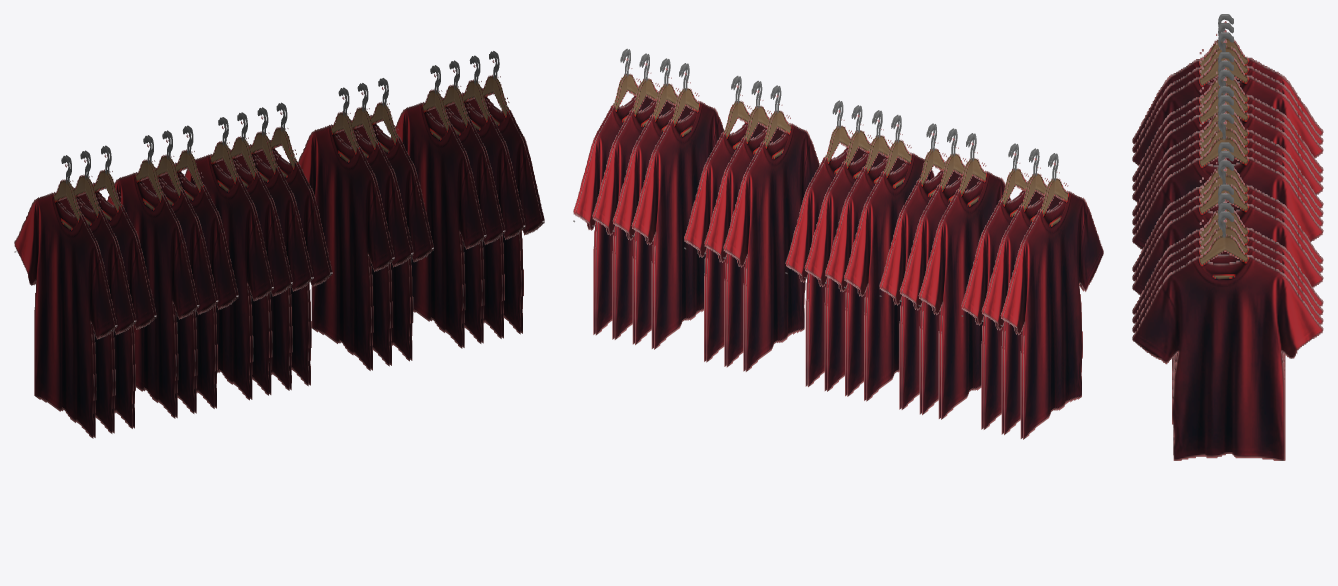
Rendered from Clothes.fbx.
3 renders of one model, left to right at view 1: azimuth 30°, elevation 25°; view 2: azimuth 150°, elevation 25°; view 3: azimuth 270°, elevation 25°, orthographic. The views are drawn at different scales.
Visible parts, largest first — view 1: HangedCloth__16_, HangedCloth__10_, HangedCloth__7_, HangedCloth__13_, HangedCloth__3_, HangedCloth__8_, HangedCloth__1_, HangedCloth__11_, HangedCloth__5_, HangedCloth__14_, HangedCloth__2_, HangedCloth__15_ (+5 smaller); view 2: HangedCloth__16_, HangedCloth__10_, HangedCloth__7_, HangedCloth__13_, HangedCloth__3_, HangedCloth__8_, HangedCloth__1_, HangedCloth__5_, HangedCloth__11_, HangedCloth__14_, HangedCloth__12_, HangedCloth__6_ (+5 smaller); view 3: HangedCloth__4_, HangedCloth, HangedCloth__8_, HangedCloth__14_, HangedCloth__11_, HangedCloth__5_, HangedCloth__9_, HangedCloth__6_, HangedCloth__15_, HangedCloth__1_, HangedCloth__12_, HangedCloth__2_ (+5 smaller).
Part boxes in pixels (x1=…): HangedCloth__16_: x1=14, y1=155, x2=117, y2=438; HangedCloth__10_: x1=298, y1=87, x2=394, y2=370; HangedCloth__7_: x1=390, y1=65, x2=486, y2=348; HangedCloth__13_: x1=107, y1=135, x2=199, y2=418; HangedCloth__3_: x1=184, y1=117, x2=273, y2=400; HangedCloth__8_: x1=356, y1=78, x2=433, y2=361; HangedCloth__1_: x1=235, y1=107, x2=313, y2=390; HangedCloth__11_: x1=161, y1=125, x2=238, y2=408; HangedCloth__5_: x1=448, y1=55, x2=525, y2=338; HangedCloth__14_: x1=79, y1=145, x2=156, y2=428; HangedCloth__2_: x1=216, y1=112, x2=292, y2=395; HangedCloth__15_: x1=60, y1=150, x2=136, y2=433; HangedCloth__16_: x1=1000, y1=153, x2=1103, y2=439; HangedCloth__10_: x1=723, y1=85, x2=819, y2=371; HangedCloth__7_: x1=631, y1=63, x2=724, y2=349; HangedCloth__13_: x1=918, y1=133, x2=1011, y2=419; HangedCloth__3_: x1=844, y1=114, x2=934, y2=401; HangedCloth__8_: x1=684, y1=75, x2=765, y2=362; HangedCloth__1_: x1=804, y1=105, x2=885, y2=391; HangedCloth__5_: x1=592, y1=53, x2=673, y2=339; HangedCloth__11_: x1=879, y1=123, x2=960, y2=409; HangedCloth__14_: x1=961, y1=143, x2=1042, y2=429; HangedCloth__12_: x1=899, y1=128, x2=979, y2=415; HangedCloth__6_: x1=612, y1=58, x2=692, y2=345; HangedCloth__4_: x1=1132, y1=211, x2=1323, y2=460; HangedCloth: x1=1132, y1=113, x2=1323, y2=249; HangedCloth__8_: x1=1132, y1=160, x2=1323, y2=371; HangedCloth__14_: x1=1132, y1=32, x2=1323, y2=166; HangedCloth__11_: x1=1132, y1=70, x2=1323, y2=202; HangedCloth__5_: x1=1132, y1=202, x2=1323, y2=444; HangedCloth__9_: x1=1132, y1=151, x2=1323, y2=281; HangedCloth__6_: x1=1132, y1=193, x2=1323, y2=435; HangedCloth__15_: x1=1132, y1=23, x2=1323, y2=152; HangedCloth__1_: x1=1132, y1=104, x2=1323, y2=234; HangedCloth__12_: x1=1132, y1=60, x2=1323, y2=190; HangedCloth__2_: x1=1132, y1=95, x2=1323, y2=225.
Bounding box in the file's own units: 221 × 187 × 90.06.
